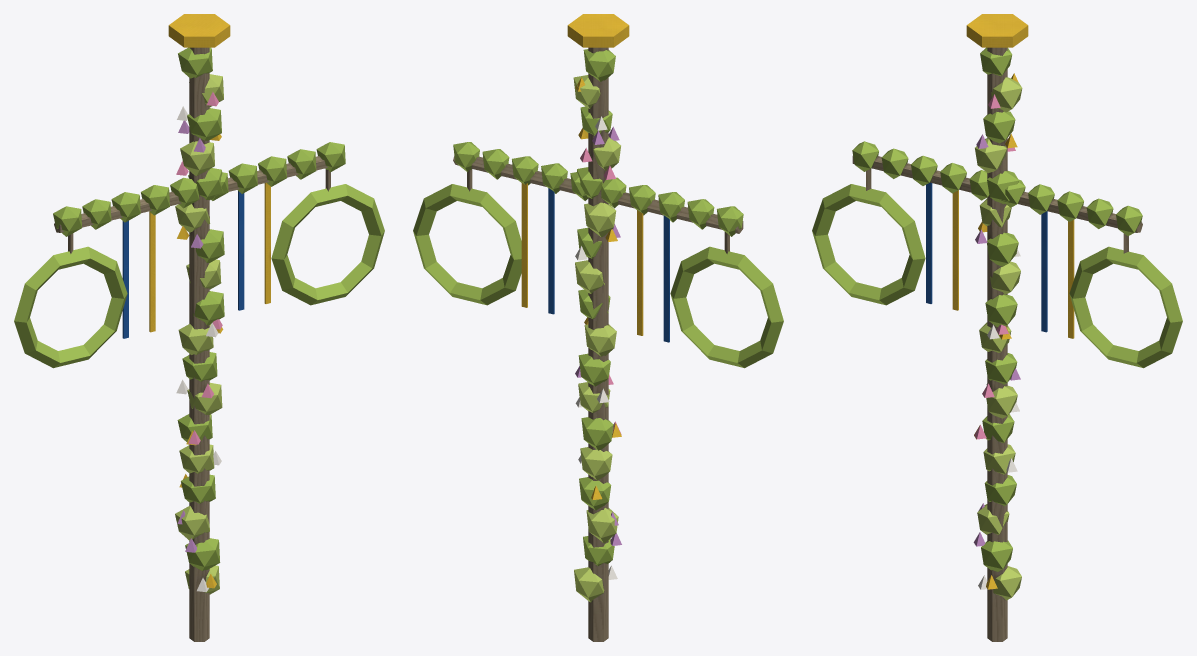
Rendered from midsommarstang_tex.glb.
3 renders of one model, left to right at view 1: azimuth 30°, elevation 25°; view 2: azimuth 150°, elevation 25°; view 3: azimuth 330°, elevation 25°, orthographic.
Parts seen in each view (by area): view 1: midsommarstang; view 2: midsommarstang; view 3: midsommarstang.
Part boxes in pixels (x1,y1,x2,y2): midsommarstang: (14, 14, 384, 641); midsommarstang: (413, 14, 783, 641); midsommarstang: (812, 14, 1182, 641).
Bounding box in the file's own units: 4.18 × 6.6 × 0.6.
8 materials, 3 textured.
